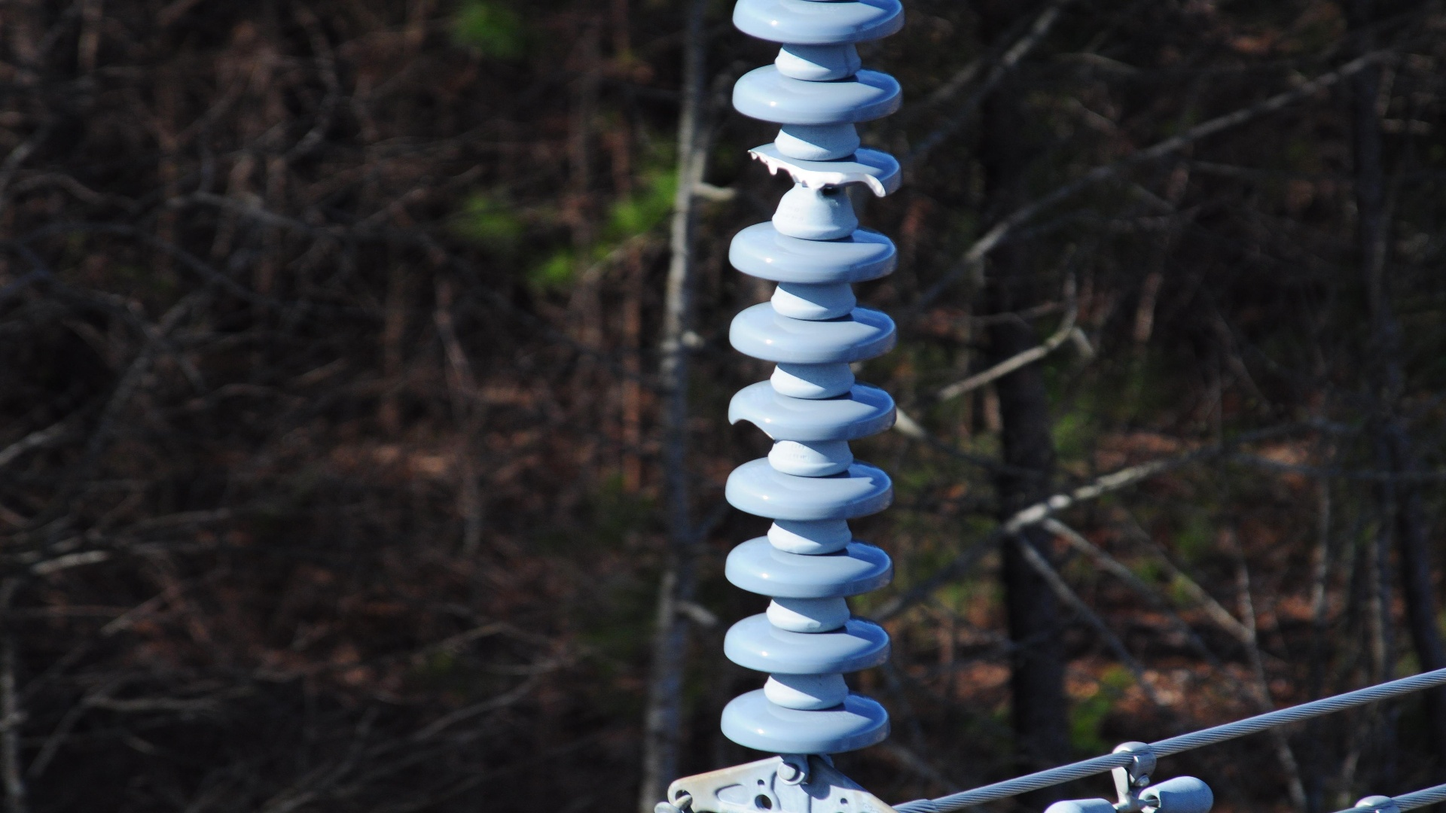damper: (1034, 729, 1224, 813)
